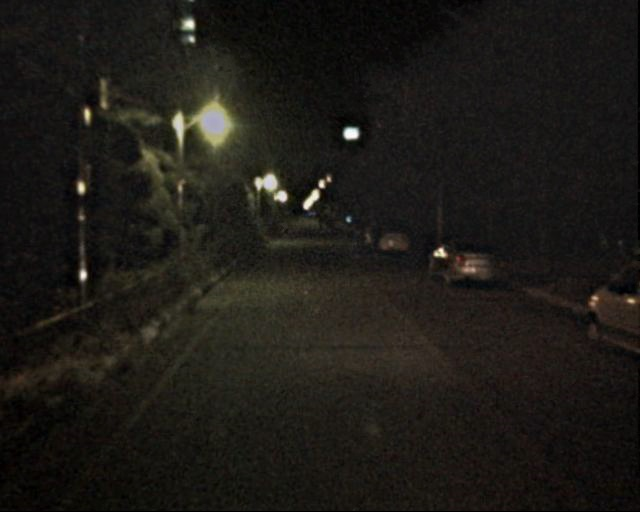person: (366, 218, 383, 260), (351, 224, 366, 261), (319, 221, 335, 235), (281, 214, 290, 236)
